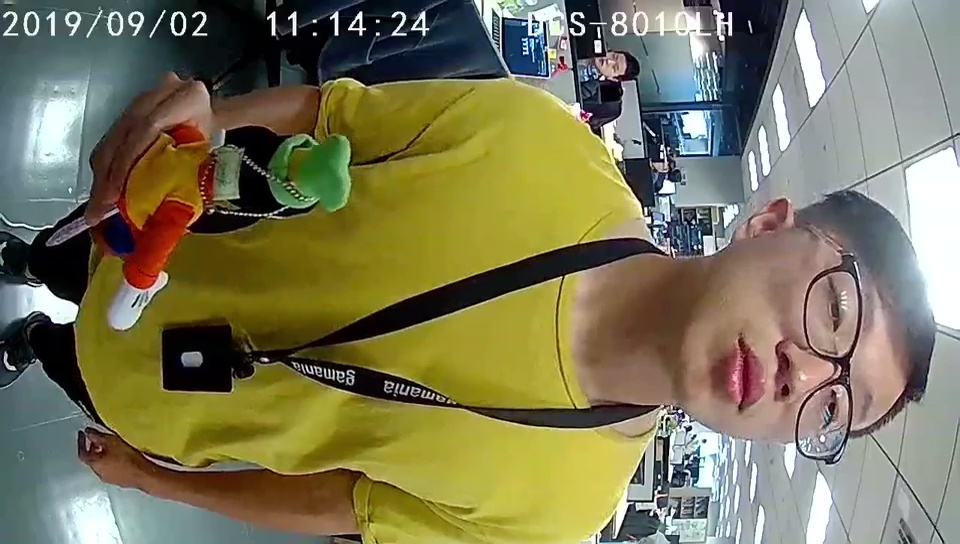goofy: (108, 128, 353, 330)
